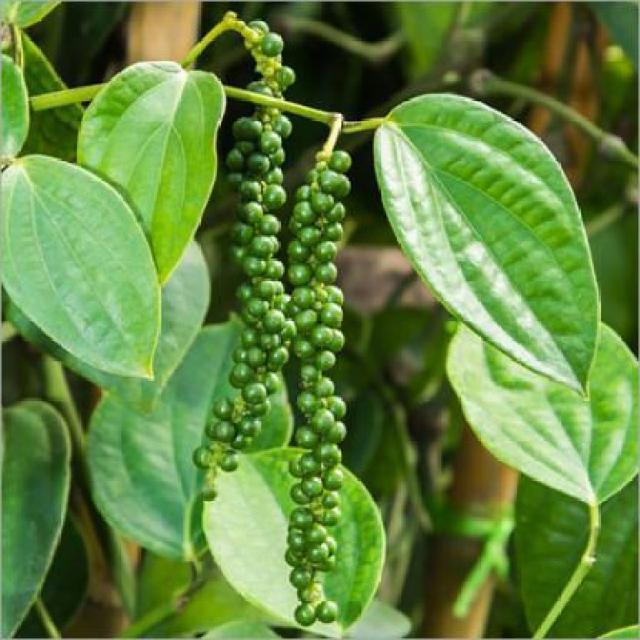UNRIPE: (220, 40, 280, 506), (289, 151, 346, 615)
